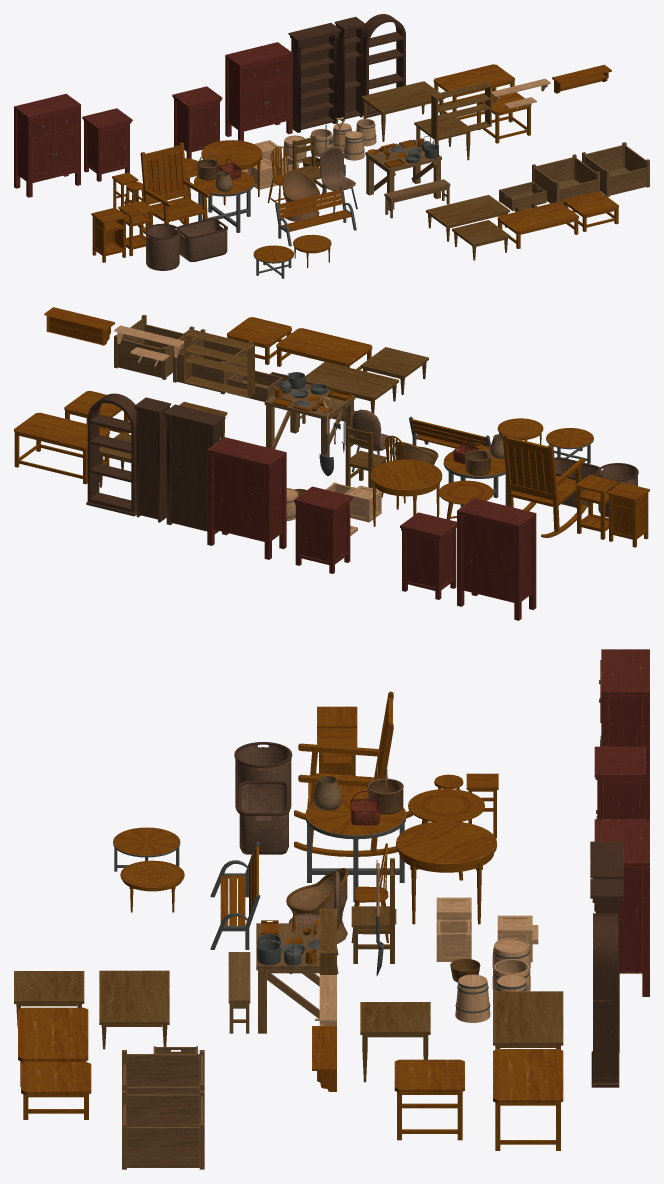
Rendered from WoodStuff.fbx.
3 renders of one model, top to bottom at view 1: azimuth 30°, elevation 25°; view 2: azimuth 150°, elevation 25°; view 3: azimuth 270°, elevation 25°, orthographic. The views are drawn at different scales.
Parts seen in each view (by area): view 1: Cabinet_A_Static, BookShelf_A, Chair_Rockign, Cabinet_A, Cabinet_B_Static, BookShelf_B, Container_A, BookShelf_C, Container_B, Bench_B, Shelf_A, Table_Rect_c (+34 smaller); view 2: Cabinet_A_Static, Cabinet_A, BookShelf_A, Chair_Rockign, Cabinet_B, Cabinet_B_Static, BookShelf_C, BookShelf_B, Table_Rect_B, Shelf_A, Table_Round_A, Table_Rect_c (+26 smaller); view 3: Container_A, Cabinet_A_Static, Cabinet_A, Table_Round_A, Table_Rect_B, BookShelf_C, Table_Rect_Small_A, Table_Rect_A, Table_Rect_Small_B, Cabinet_B_Static, Table_Square_B, Basket_D (+31 smaller).
Boxes of the visible parts, <box> form: Cabinet_A_Static: <box>14,93,80,197</box>; BookShelf_A: <box>288,23,341,132</box>; Chair_Rockign: <box>137,142,210,234</box>; Cabinet_A: <box>225,42,292,140</box>; Cabinet_B_Static: <box>82,108,132,181</box>; BookShelf_B: <box>334,16,365,121</box>; Container_A: <box>582,142,649,196</box>; BookShelf_C: <box>362,14,405,117</box>; Container_B: <box>532,154,599,204</box>; Bench_B: <box>275,187,356,246</box>; Shelf_A: <box>431,81,491,139</box>; Table_Rect_c: <box>365,139,441,209</box>; Cabinet_A_Static: <box>457,498,536,620</box>; Cabinet_A: <box>207,437,286,559</box>; BookShelf_A: <box>163,404,225,533</box>; Chair_Rockign: <box>502,433,587,537</box>; Cabinet_B: <box>294,486,352,573</box>; Cabinet_B_Static: <box>400,512,456,599</box>; BookShelf_C: <box>86,393,136,516</box>; BookShelf_B: <box>134,397,171,522</box>; Table_Rect_B: <box>14,412,109,484</box>; Shelf_A: <box>184,329,254,397</box>; Table_Round_A: <box>370,459,442,526</box>; Table_Rect_c: <box>264,383,355,458</box>; Container_A: <box>122,1090,204,1169</box>; Cabinet_A_Static: <box>599,649,649,820</box>; Cabinet_A: <box>601,820,649,996</box>; Table_Round_A: <box>396,821,496,924</box>; Table_Rect_B: <box>493,1049,563,1150</box>; BookShelf_C: <box>591,913,619,1087</box>; Table_Rect_Small_A: <box>99,970,169,1049</box>; Table_Rect_A: <box>493,991,563,1049</box>; Table_Rect_Small_B: <box>18,1007,88,1086</box>; Cabinet_B_Static: <box>594,746,645,819</box>; Table_Square_B: <box>394,1059,464,1140</box>; Basket_D: <box>238,781,289,854</box>.
Bounding box in the file's own units: 9.67 × 1.74 × 6.33.
